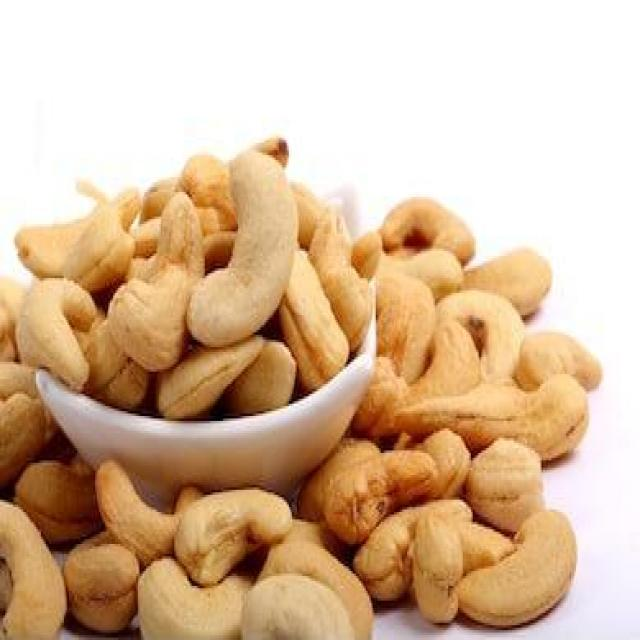cashew: (206, 148, 300, 344), (82, 455, 198, 556), (132, 179, 190, 373), (170, 492, 298, 559), (240, 580, 370, 640), (63, 545, 147, 629), (0, 516, 55, 640), (449, 384, 588, 432), (387, 178, 493, 240), (521, 313, 610, 385), (511, 531, 589, 613), (16, 294, 94, 372), (414, 504, 459, 634), (462, 271, 513, 374), (471, 459, 544, 516)
